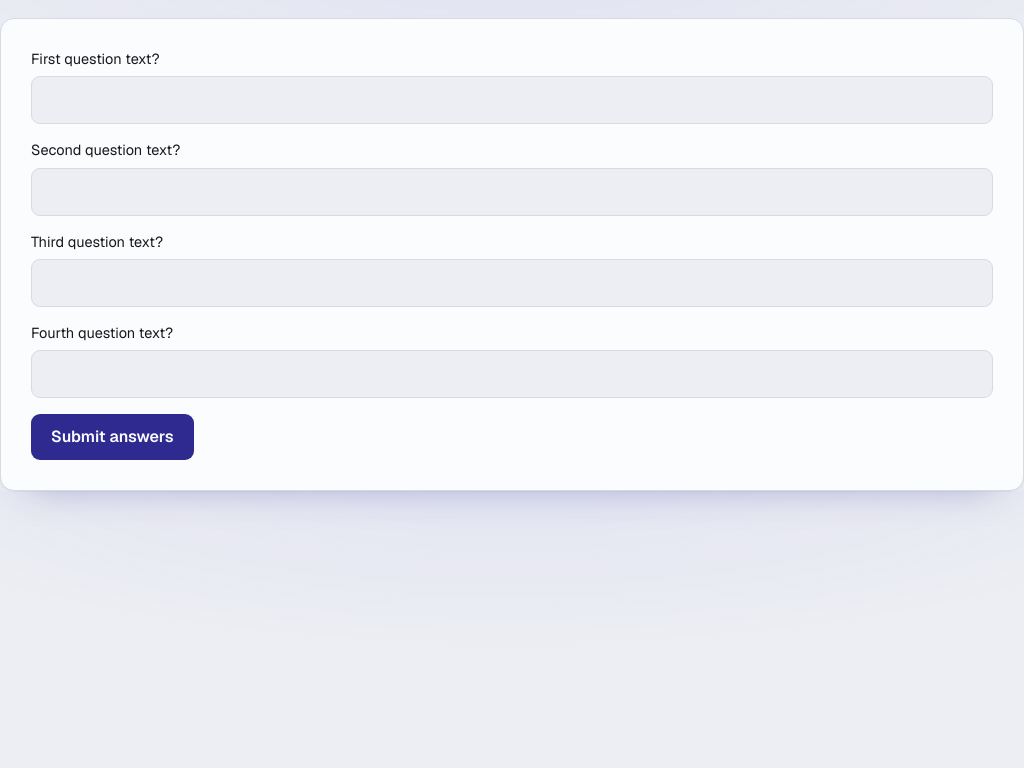
Test: AnswerForm: failed submit › shows an error and re-enables the button when the response is not ok
Type "answer 0" into the field labelled "First question text?" at (512, 100), box [31,76,993,124]
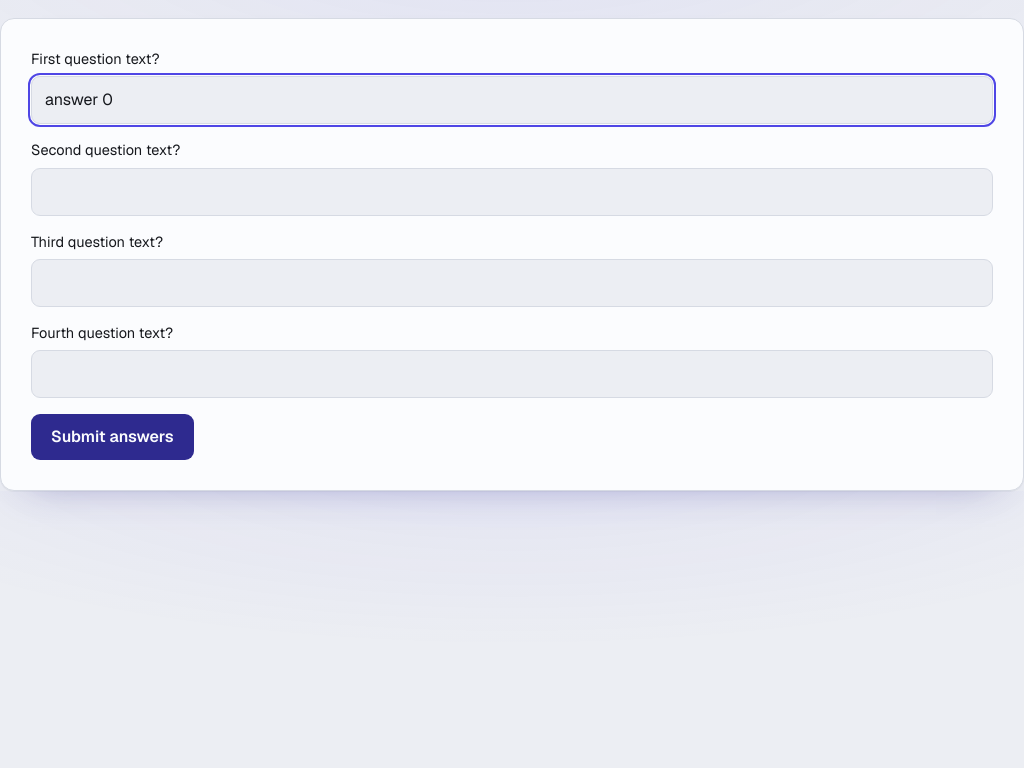
Type "answer 1" into the field labelled "Second question text?" at (512, 192), box [31,168,993,216]
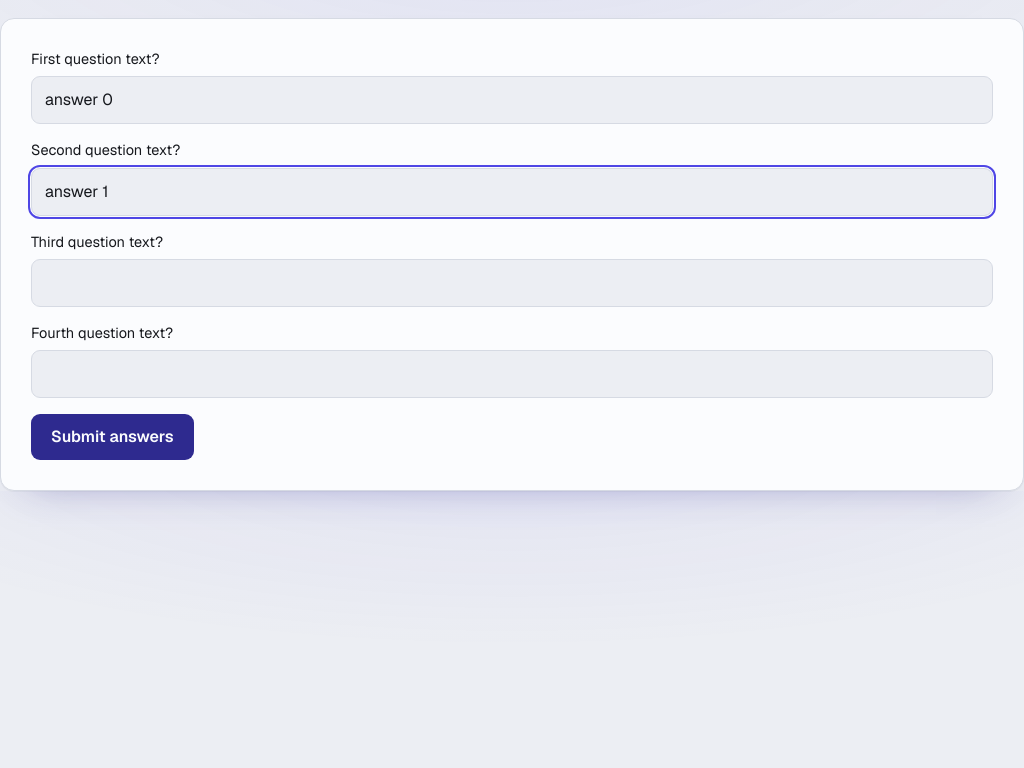
Type "answer 2" into the field labelled "Third question text?" at (512, 283), box [31,259,993,307]
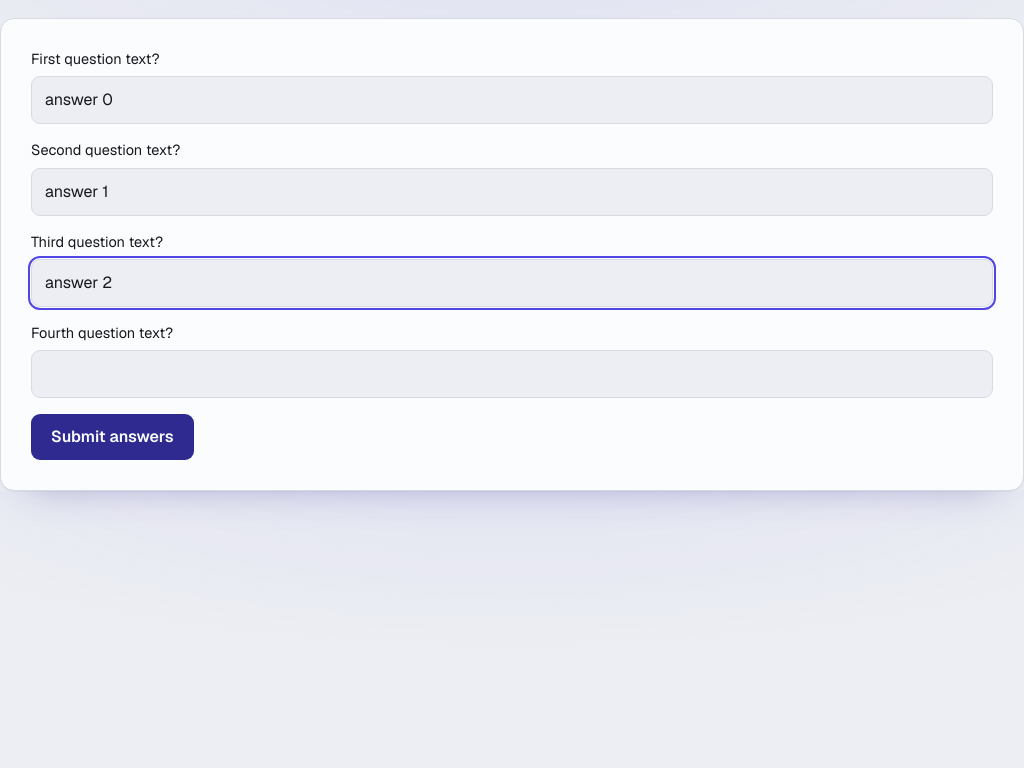
Type "answer 3" into the field labelled "Fourth question text?" at (512, 374), box [31,350,993,398]
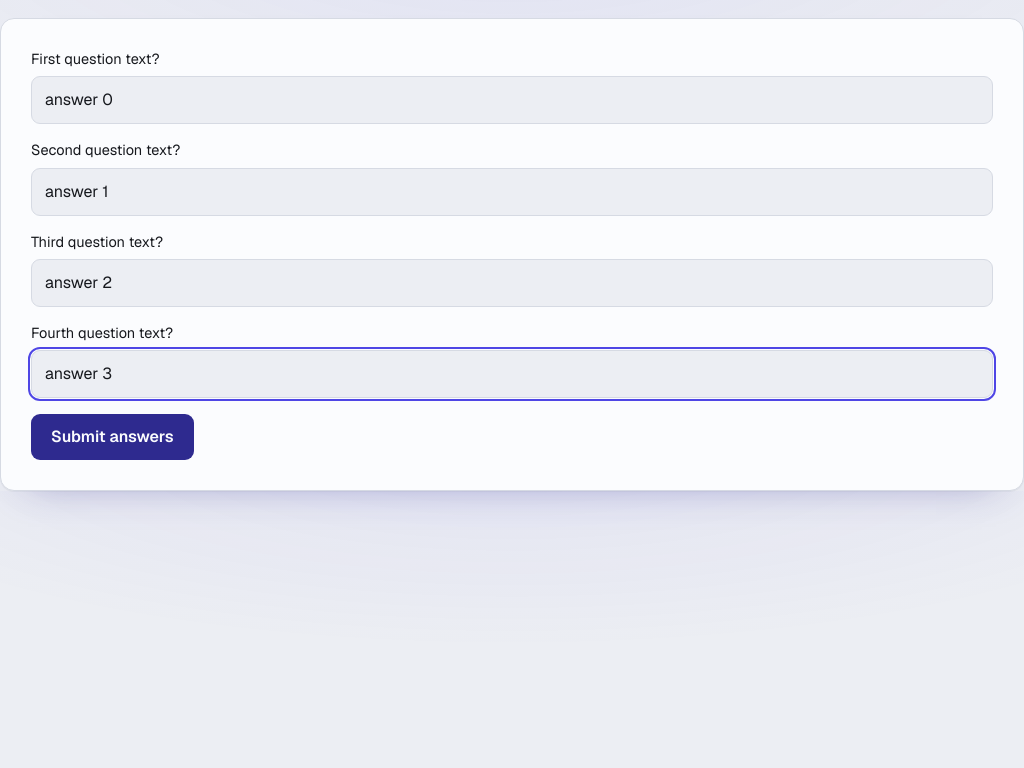
Click the button at (112, 437), box [31,414,194,460]
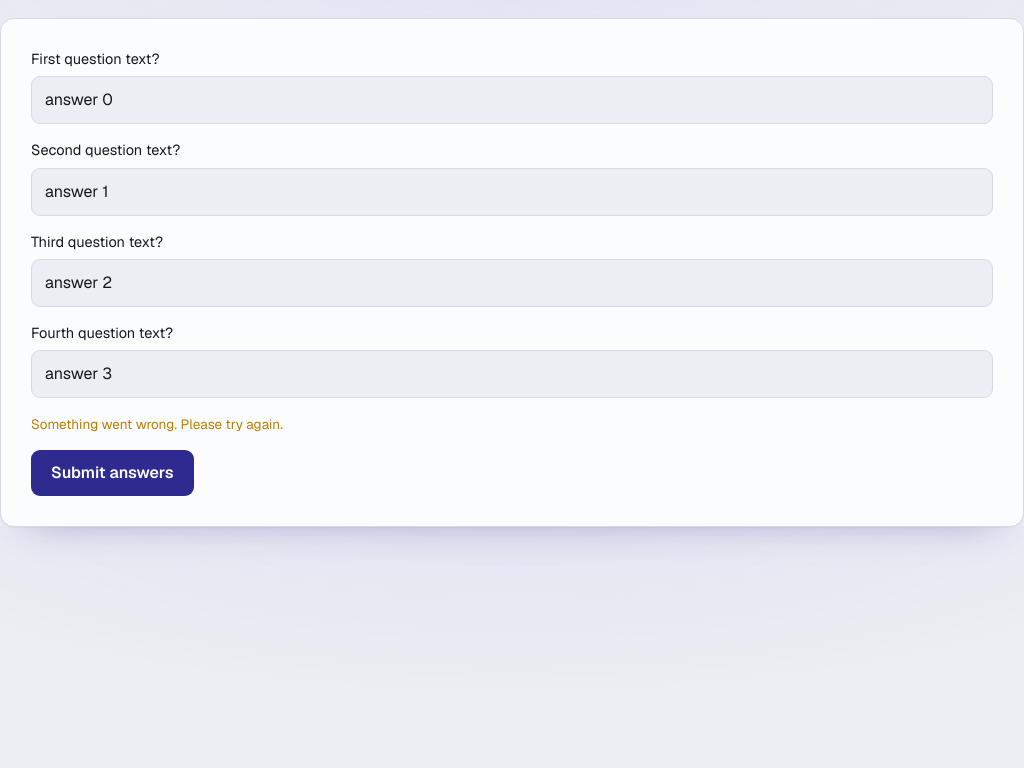
Expected: the button is enabled, [31,450,194,496]
Result: the message "Something went wrong. Please try again." is shown at [31,415,283,433]
